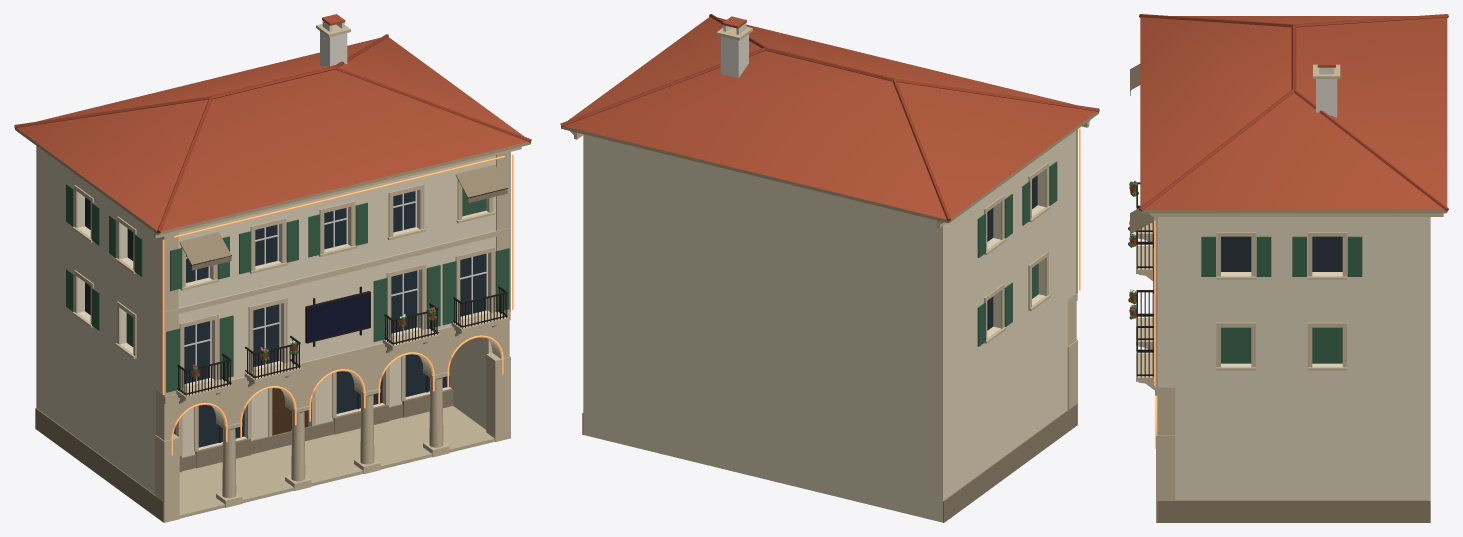
3 renders of one model, left to right at view 1: azimuth 30°, elevation 25°; view 2: azimuth 150°, elevation 25°; view 3: azimuth 270°, elevation 25°, orthographic. The views are drawn at different scales.
Visible parts, largest first — view 1: townhall.lod0; view 2: townhall.lod0; view 3: townhall.lod0.
Boxes of the visible parts, x1,y1,x2,y2 form: townhall.lod0: (14,14,531,522); townhall.lod0: (560,14,1099,522); townhall.lod0: (1128,14,1448,522).
Bounding box in the file's own units: 15.2 × 14.91 × 10.56.
